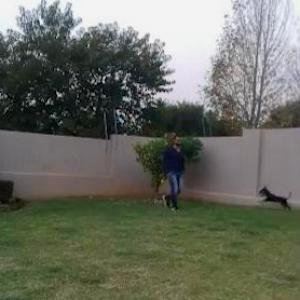follow: (160, 127, 186, 214)
